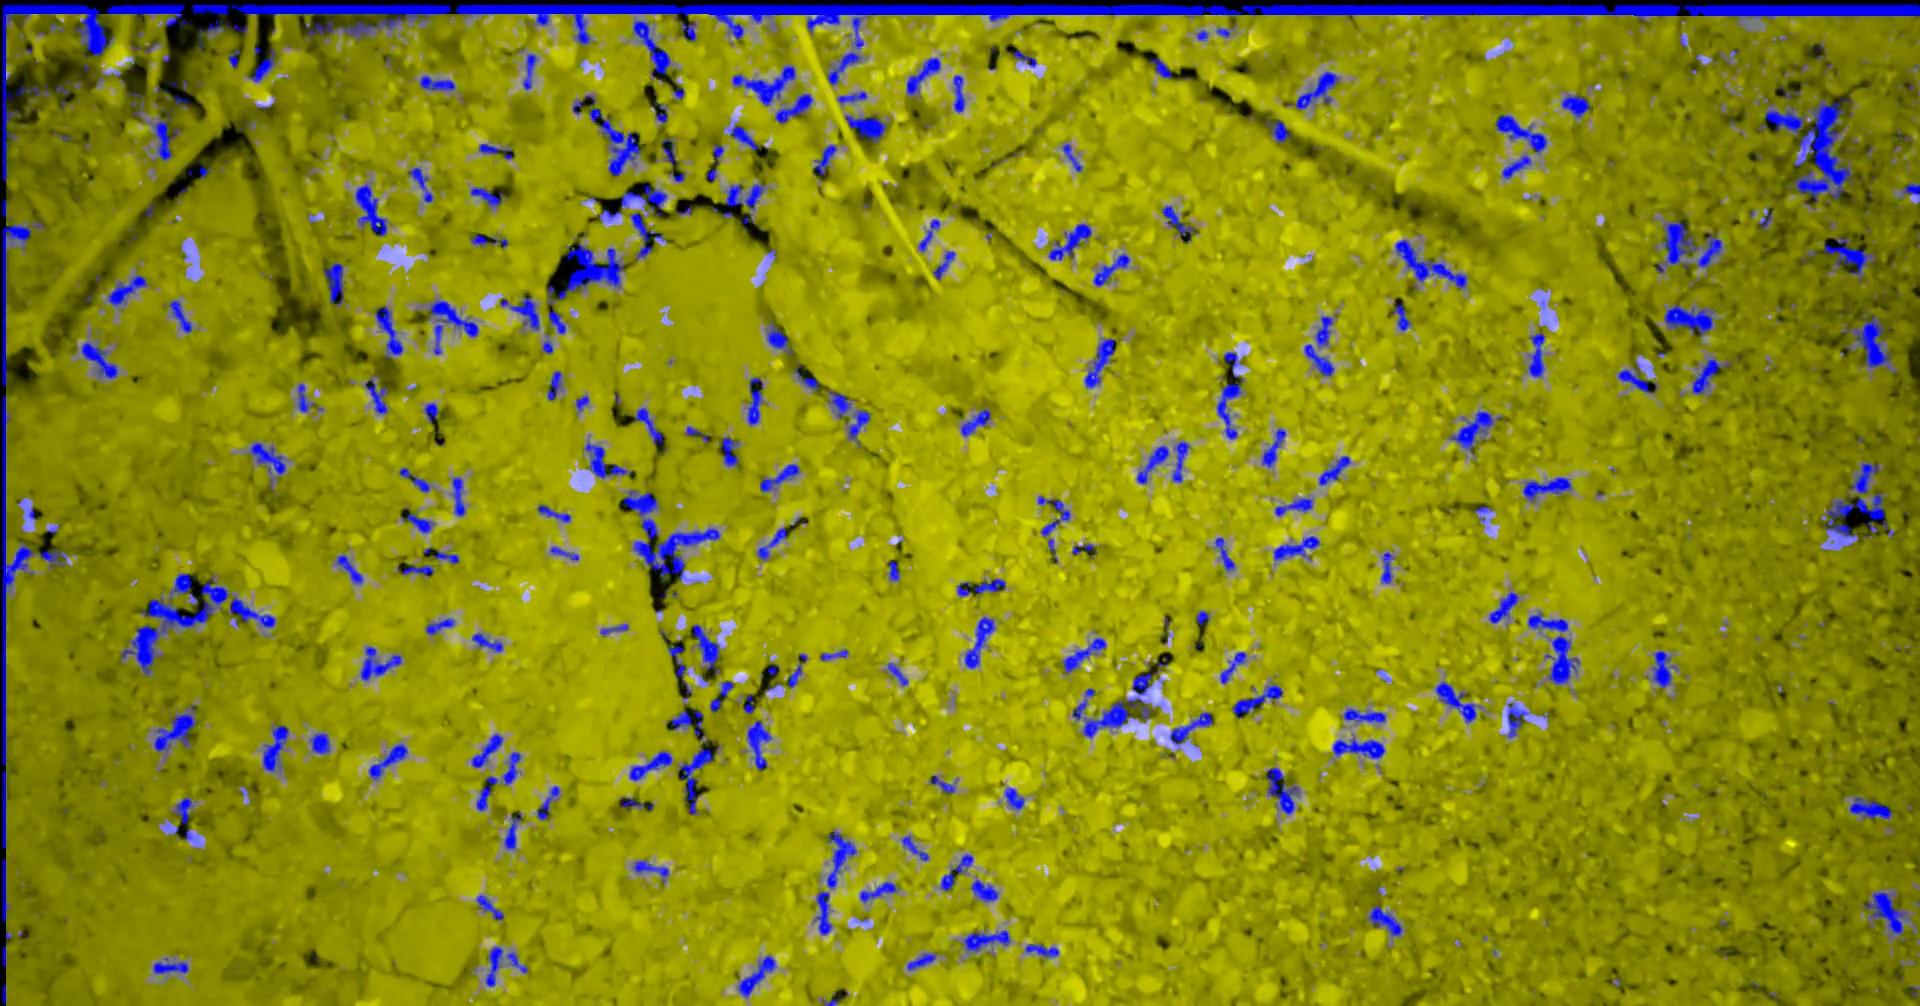ant: (1396, 239, 1465, 288), (1840, 309, 1891, 367), (428, 300, 477, 354), (731, 65, 795, 105), (632, 20, 670, 81), (678, 747, 712, 814), (1862, 890, 1907, 940), (1823, 238, 1876, 281), (1656, 221, 1697, 272), (152, 704, 196, 751), (1286, 71, 1338, 109), (1495, 114, 1545, 152), (105, 3, 188, 25), (1449, 412, 1492, 453), (825, 831, 856, 888), (584, 442, 632, 478), (1232, 683, 1283, 716), (1217, 377, 1243, 439), (354, 184, 386, 236), (724, 183, 764, 224), (1435, 681, 1476, 721), (485, 946, 527, 986), (737, 955, 775, 997), (1663, 304, 1712, 337), (1048, 224, 1091, 260), (964, 616, 994, 668), (630, 212, 663, 259), (197, 19, 248, 50), (1062, 638, 1105, 673), (1266, 767, 1299, 813), (227, 597, 276, 627), (375, 306, 403, 358), (1084, 338, 1114, 387), (80, 340, 117, 379), (368, 743, 408, 779), (620, 184, 665, 215), (152, 109, 179, 160), (692, 624, 719, 674), (1037, 495, 1070, 536), (361, 647, 401, 680), (1170, 713, 1211, 744), (1691, 359, 1730, 394), (629, 749, 670, 780), (905, 57, 940, 94), (1161, 205, 1195, 241), (745, 720, 771, 770), (262, 724, 288, 771), (107, 276, 147, 306), (1137, 445, 1168, 483), (1617, 362, 1656, 392), (1272, 535, 1319, 560), (1093, 253, 1129, 286), (670, 710, 706, 743), (844, 116, 886, 144), (940, 854, 971, 890), (632, 406, 663, 445), (1764, 107, 1804, 135), (249, 442, 284, 474), (775, 93, 811, 123), (1523, 478, 1571, 500), (759, 464, 799, 492), (827, 52, 861, 84), (1368, 904, 1402, 936), (1332, 738, 1384, 758), (471, 733, 502, 767), (963, 930, 1010, 951), (1303, 344, 1335, 376), (1318, 455, 1350, 485), (509, 297, 538, 330), (1261, 428, 1285, 467), (323, 262, 344, 305), (1849, 796, 1892, 818), (757, 527, 786, 559), (1488, 591, 1517, 622), (248, 48, 276, 81), (766, 321, 792, 354), (1652, 650, 1675, 688), (811, 145, 836, 180), (408, 166, 432, 202), (960, 408, 990, 436), (1697, 232, 1721, 267), (536, 785, 559, 821), (632, 860, 668, 883), (858, 882, 898, 902), (956, 578, 1004, 594), (364, 379, 387, 413), (729, 124, 759, 150), (337, 554, 362, 584), (1220, 652, 1244, 683), (709, 680, 733, 711), (1528, 332, 1544, 377), (792, 362, 818, 391), (1214, 537, 1236, 572), (747, 377, 762, 426), (399, 467, 429, 492), (814, 890, 830, 935), (470, 185, 505, 206), (1501, 155, 1531, 178), (1507, 702, 1528, 737), (476, 776, 497, 810), (169, 300, 190, 332), (1274, 498, 1312, 516), (902, 835, 928, 860), (918, 218, 938, 251), (1172, 441, 1189, 481), (400, 513, 433, 533), (1561, 94, 1590, 117), (503, 812, 521, 848), (787, 653, 806, 687), (476, 895, 503, 920), (667, 645, 686, 678), (502, 751, 521, 784), (848, 409, 869, 439), (706, 144, 723, 180), (932, 251, 954, 279), (828, 390, 850, 418), (970, 879, 998, 901), (537, 504, 570, 522), (152, 956, 188, 973), (1343, 708, 1385, 721), (1265, 119, 1290, 142), (471, 633, 502, 652), (1062, 144, 1082, 171), (905, 951, 935, 970), (419, 75, 455, 90), (451, 478, 465, 516), (173, 796, 192, 824), (477, 144, 512, 159), (470, 232, 507, 246), (1390, 304, 1410, 330), (721, 436, 738, 466), (522, 53, 536, 89), (0, 857, 8, 922), (1148, 57, 1172, 77), (1316, 316, 1332, 345), (1023, 942, 1058, 956), (546, 370, 561, 400), (297, 384, 314, 412), (38, 549, 66, 565), (124, 91, 143, 116), (425, 619, 455, 634), (620, 796, 651, 810), (888, 662, 907, 685), (930, 775, 954, 793), (952, 75, 964, 112), (660, 138, 677, 164), (310, 732, 329, 753), (1004, 788, 1023, 809), (549, 546, 578, 560), (1223, 351, 1238, 377), (549, 309, 565, 333), (1013, 50, 1036, 66), (686, 426, 709, 442), (1070, 542, 1095, 558), (433, 549, 458, 563), (599, 622, 627, 635), (651, 100, 667, 123), (1380, 553, 1392, 583), (820, 648, 847, 661), (837, 91, 866, 103), (401, 565, 433, 575), (423, 401, 438, 422), (1757, 206, 1771, 227), (164, 95, 189, 107), (681, 22, 695, 41), (1901, 182, 1919, 196), (823, 992, 842, 1005), (888, 560, 899, 580), (743, 694, 754, 713), (575, 394, 588, 410), (229, 50, 239, 69), (1195, 610, 1208, 624), (546, 285, 555, 304), (198, 165, 211, 178), (542, 339, 552, 353), (0, 198, 6, 217), (0, 944, 5, 967), (0, 983, 5, 1005)
